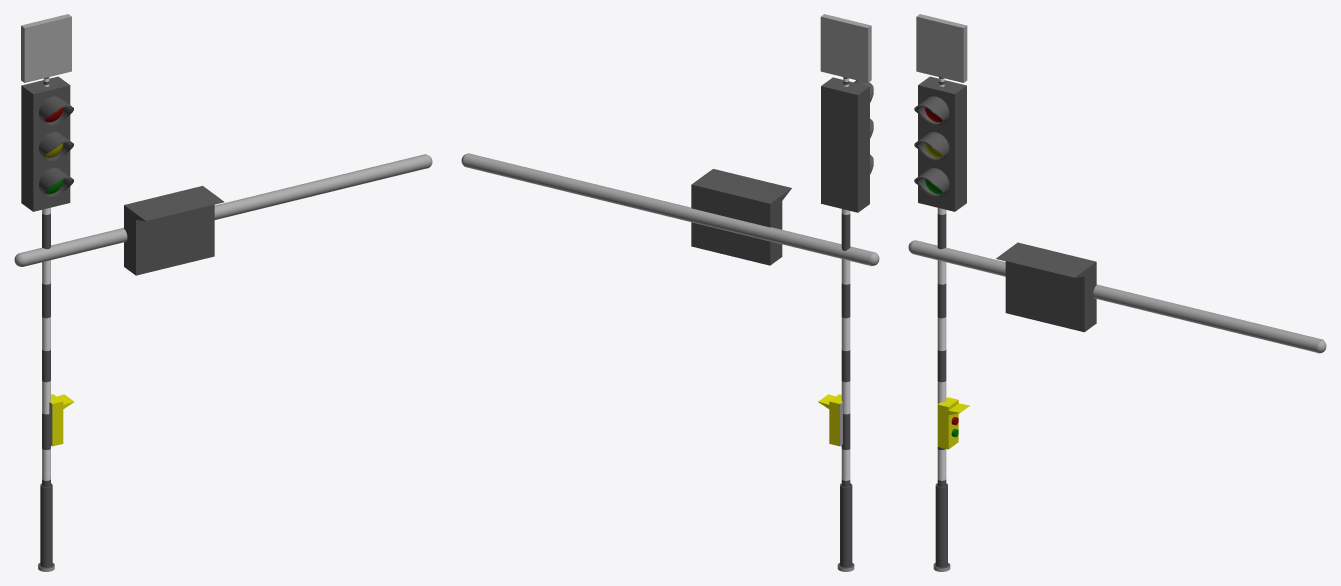
The model's file is TrafficLight.fbx.
3 renders of one model, left to right at view 1: azimuth 30°, elevation 25°; view 2: azimuth 150°, elevation 25°; view 3: azimuth 330°, elevation 25°, orthographic.
Visible parts, largest first — view 1: countHolder, crossSupport, lightHolder, sign, support, MainSupport, controlBox, redcope, yellowcope, greencope; view 2: crossSupport, countHolder, lightHolder, sign, support, MainSupport, controlBox; view 3: countHolder, crossSupport, lightHolder, sign, support, MainSupport, controlBox, redcope, greencope, yellowcope.
Part boxes in pixels (bbox=[...]): countHolder: bbox=[124, 186, 224, 275]; crossSupport: bbox=[14, 154, 432, 266]; lightHolder: bbox=[21, 76, 70, 211]; sign: bbox=[21, 14, 71, 82]; support: bbox=[42, 207, 50, 487]; MainSupport: bbox=[38, 483, 54, 571]; controlBox: bbox=[49, 394, 74, 446]; redcope: bbox=[39, 96, 73, 125]; yellowcope: bbox=[39, 132, 73, 160]; greencope: bbox=[39, 168, 73, 196]; crossSupport: bbox=[461, 153, 879, 266]; countHolder: bbox=[691, 169, 791, 265]; lightHolder: bbox=[821, 77, 869, 212]; sign: bbox=[820, 14, 871, 82]; support: bbox=[841, 209, 850, 487]; MainSupport: bbox=[837, 483, 854, 571]; controlBox: bbox=[818, 394, 842, 446]; countHolder: bbox=[996, 242, 1096, 332]; crossSupport: bbox=[908, 240, 1326, 353]; lightHolder: bbox=[918, 76, 966, 211]; sign: bbox=[916, 14, 967, 82]; support: bbox=[937, 208, 946, 487]; MainSupport: bbox=[933, 483, 950, 571]; controlBox: bbox=[937, 397, 969, 449]; redcope: bbox=[914, 96, 949, 125]; greencope: bbox=[914, 168, 949, 197]; yellowcope: bbox=[914, 132, 949, 161].
Bounding box in the file's own units: 51.62 × 64.86 × 6.28.
